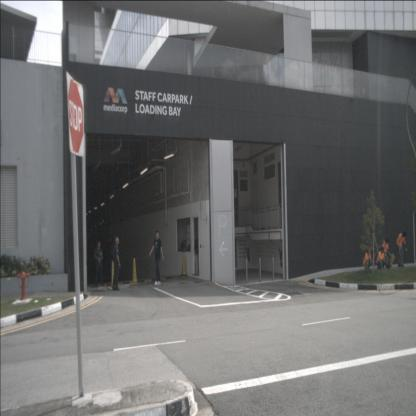cone: (111, 261, 117, 288), (181, 254, 187, 278), (132, 258, 137, 282)
